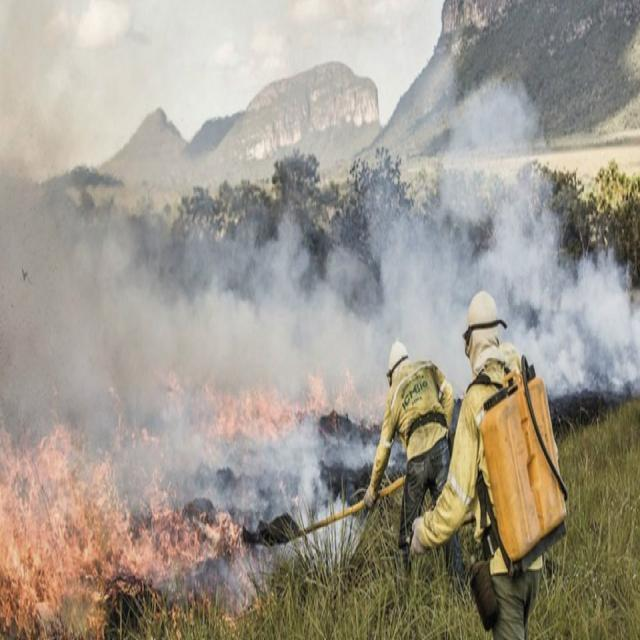Fire: (10, 475, 113, 591)
Smoke: (10, 234, 148, 424), (170, 298, 364, 373)
